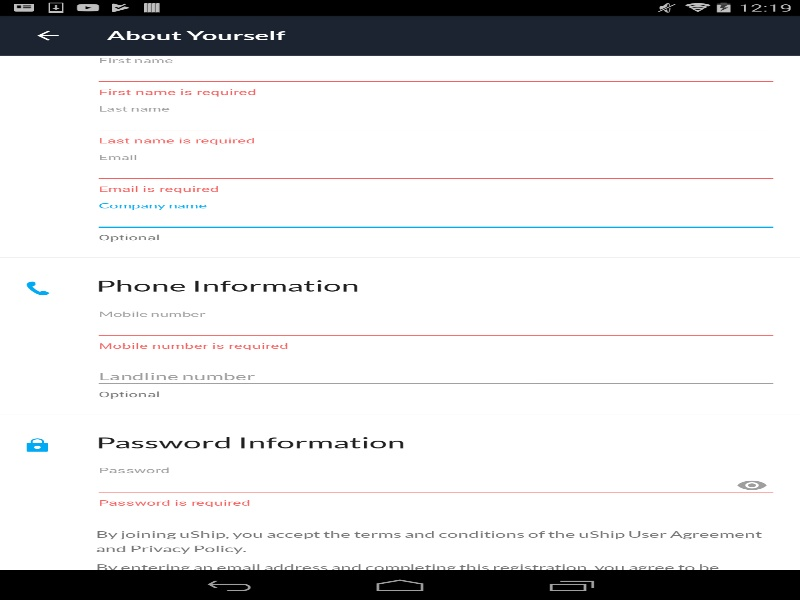Button: (10, 15, 85, 55), (725, 477, 778, 492)
Input: (93, 110, 778, 135), (93, 207, 778, 232), (93, 364, 778, 389), (93, 62, 778, 86), (93, 159, 778, 183), (93, 316, 778, 340), (93, 473, 778, 497)
